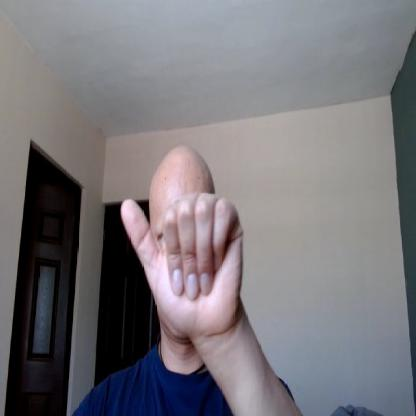A: (121, 196, 244, 334)
